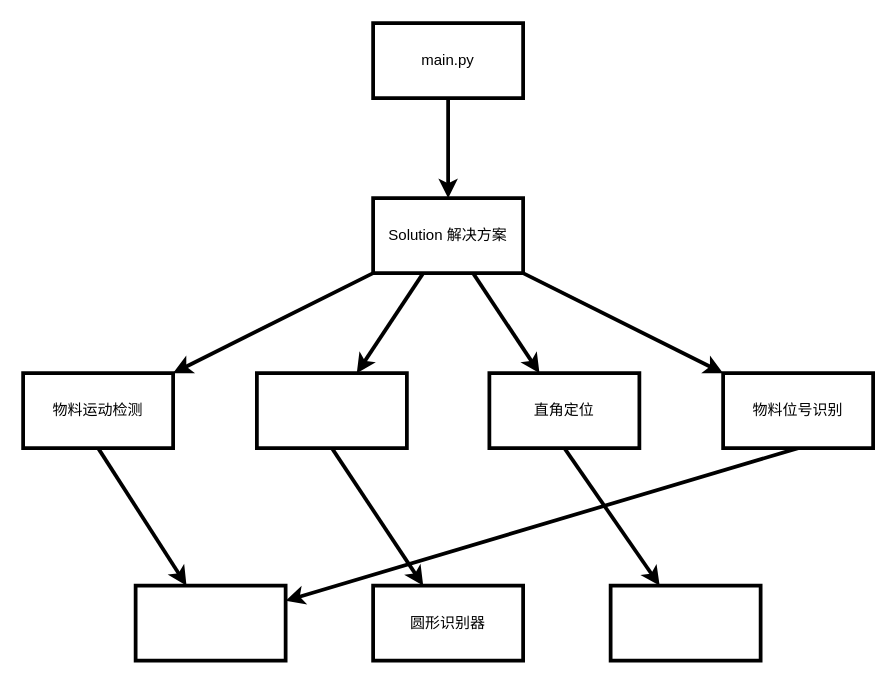
Some shapes in this 896 by 684 pixel diagram are drawn without their labels. Each missing label, with the centre of its shape:
圆环定位: point 331,410
直线识别器 (兼直角识别器): point 685,622
颜色识别器: point 210,622
